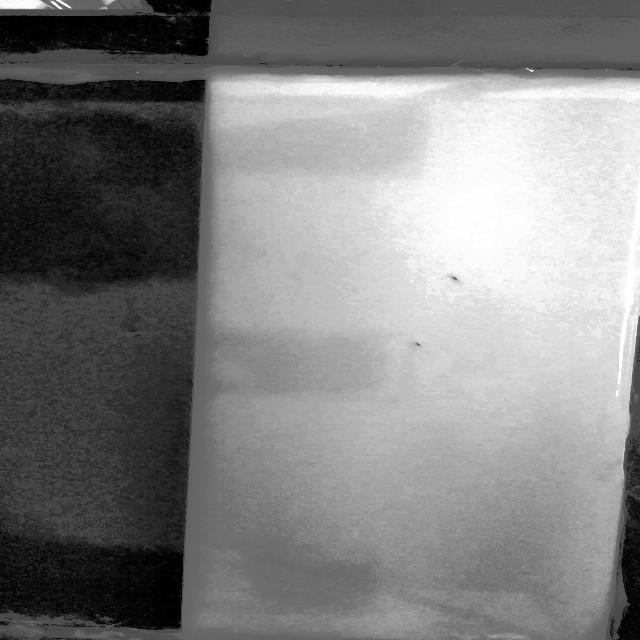shrimp: (441, 271, 480, 289), (408, 336, 430, 351)
